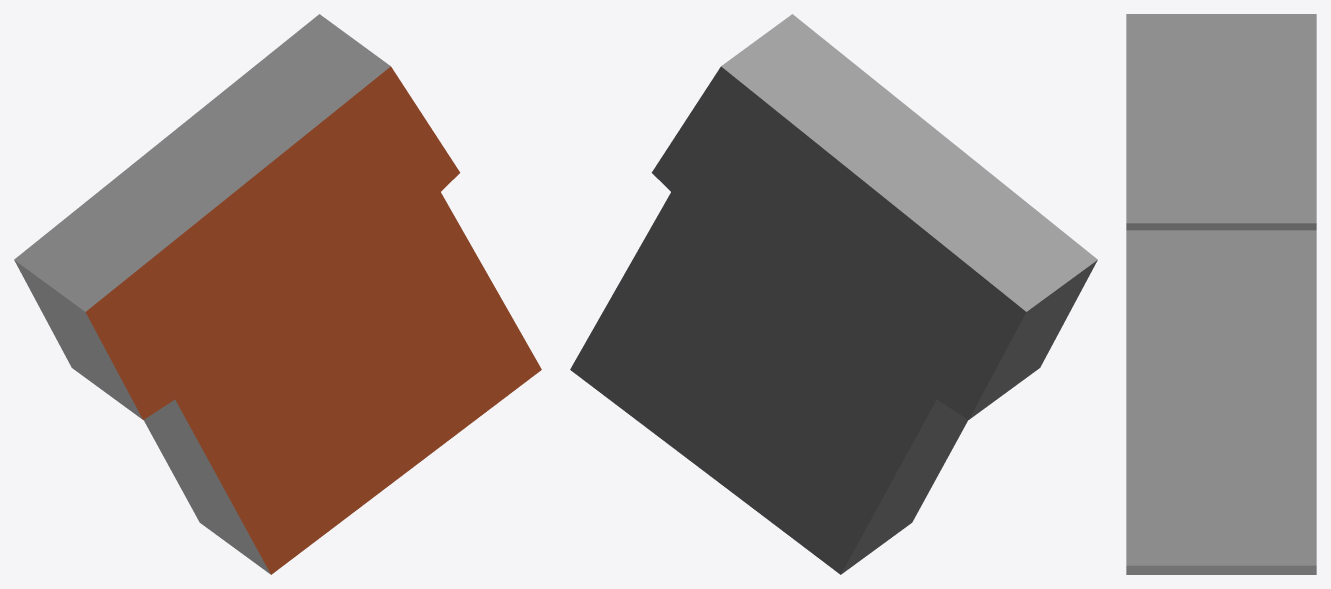
Rendered from construction_3409_assumed_A_Casa_h6m.obj.
The picture shows the model from 3 angles, left to right: view 1: azimuth 30°, elevation 25°; view 2: azimuth 150°, elevation 25°; view 3: azimuth 270°, elevation 25°; orthographic projection. The views are drawn at different scales.
Visible parts, largest first — view 1: construction_3409_assumed_A_Casa; view 2: construction_3409_assumed_A_Casa; view 3: construction_3409_assumed_A_Casa.
Boxes of the visible parts, left/top/right/bottom form: construction_3409_assumed_A_Casa: left=14, top=14, right=541, bottom=574; construction_3409_assumed_A_Casa: left=570, top=14, right=1097, bottom=574; construction_3409_assumed_A_Casa: left=1126, top=14, right=1316, bottom=574.
Bounding box in the file's own units: 22.12 × 22.2 × 6.
